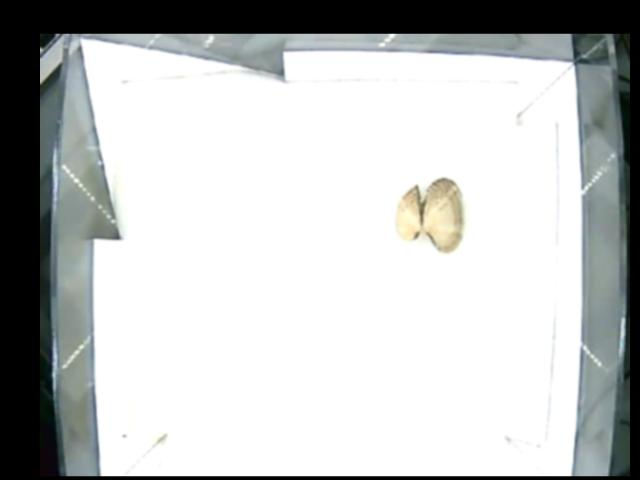Shell: (393, 177, 465, 254)
